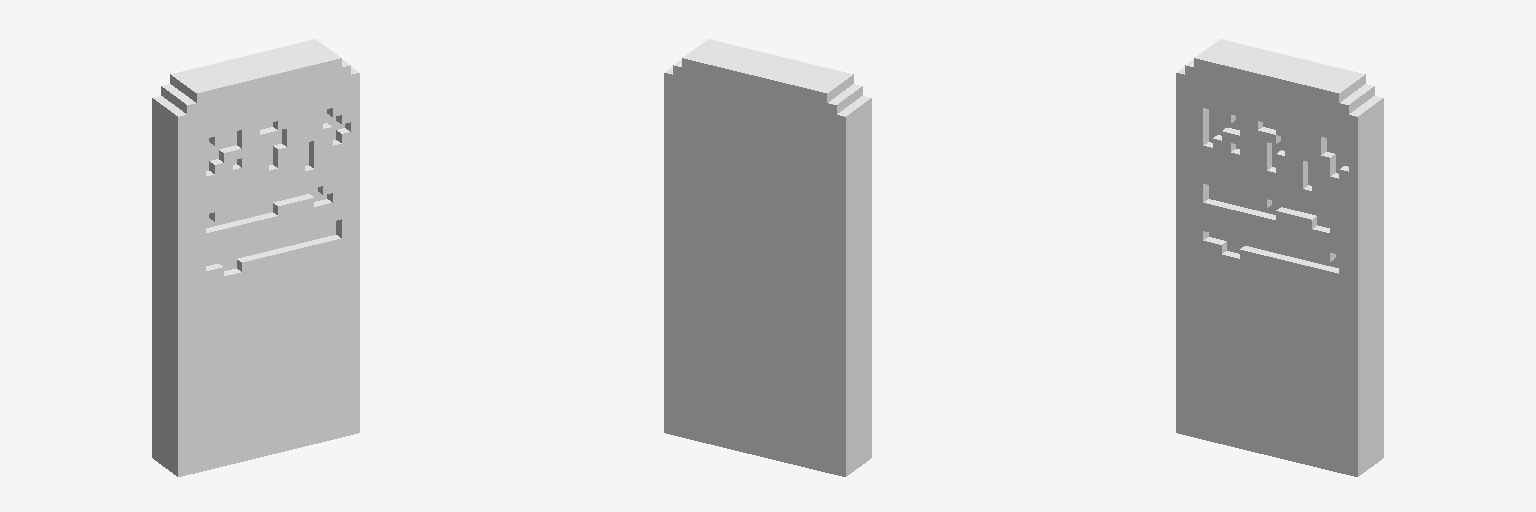
The model's file is Tombstones-2-Tombstone2.obj.
3 renders of one model, left to right at view 1: azimuth 30°, elevation 25°; view 2: azimuth 150°, elevation 25°; view 3: azimuth 330°, elevation 25°, orthographic.
Visible parts, largest first — view 1: Tombstone2; view 2: Tombstone2; view 3: Tombstone2.
Part boxes in pixels (bbox=[...]): Tombstone2: bbox=[152, 39, 359, 476]; Tombstone2: bbox=[664, 39, 871, 476]; Tombstone2: bbox=[1176, 39, 1383, 476].
Bounding box in the file's own units: 2 × 4 × 0.5.